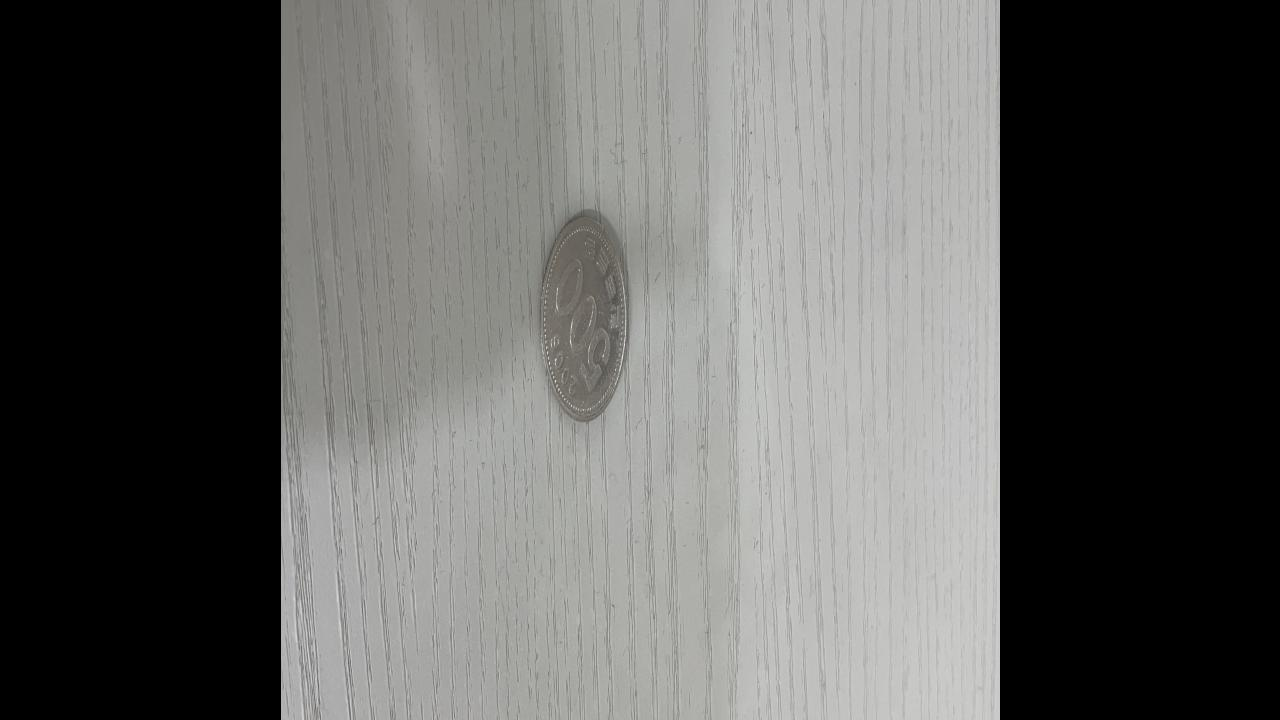coin: (539, 206, 629, 430)
